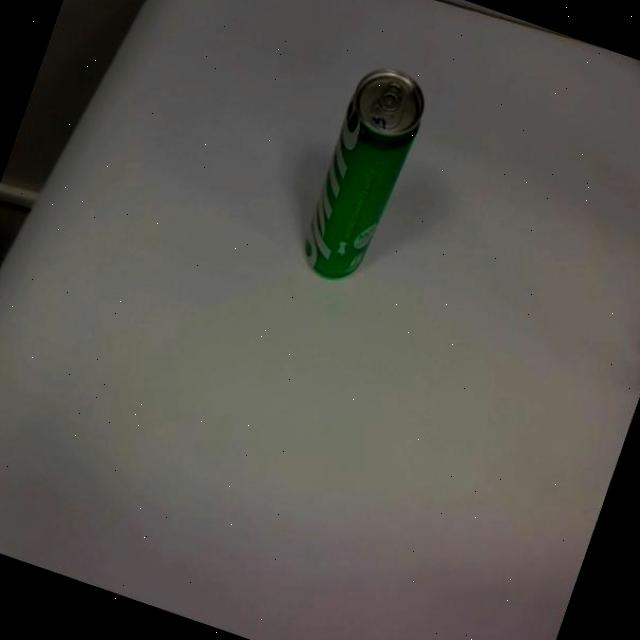debris: (290, 56, 434, 290)
